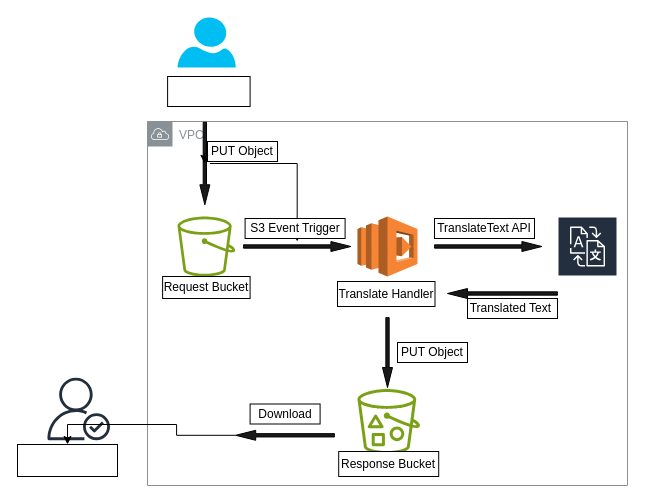
The diagram is 645 pixels wide and 503 high, and some of its shapes have lost their labels. Each missing label, with the centre of its shape:
Amazon Translate: the point at 587,261
User Download JSON: the point at 67,460
User Upload JSON: the point at 208,91
